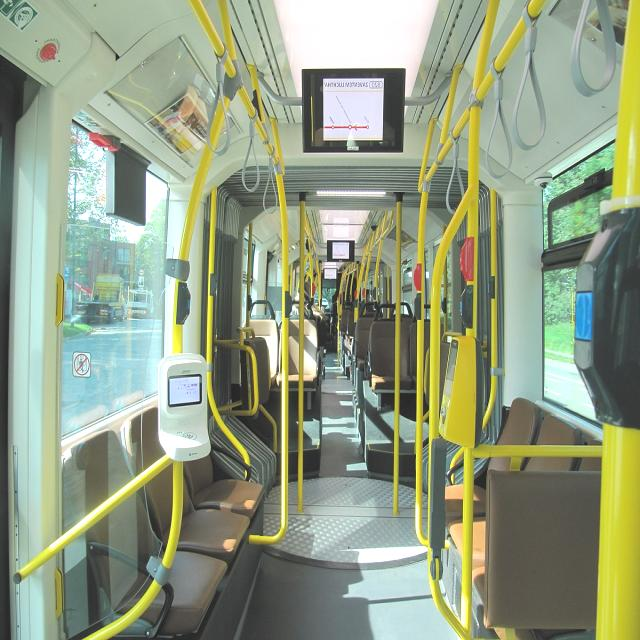asiento-libre: (60, 430, 226, 636), (450, 413, 578, 568), (121, 410, 249, 551), (445, 395, 538, 529), (183, 455, 264, 514), (368, 303, 418, 394), (276, 300, 320, 390), (405, 309, 444, 402), (247, 315, 280, 389), (575, 436, 601, 475), (343, 302, 363, 341)
